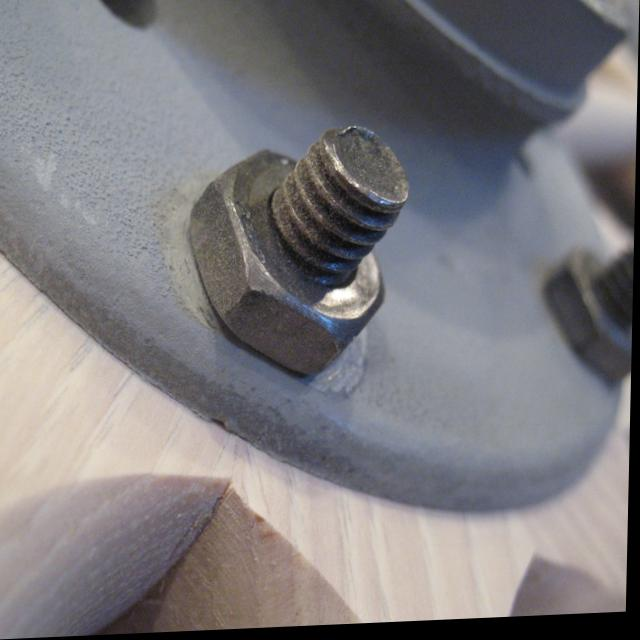Regular bolt: (190, 132, 390, 381)
